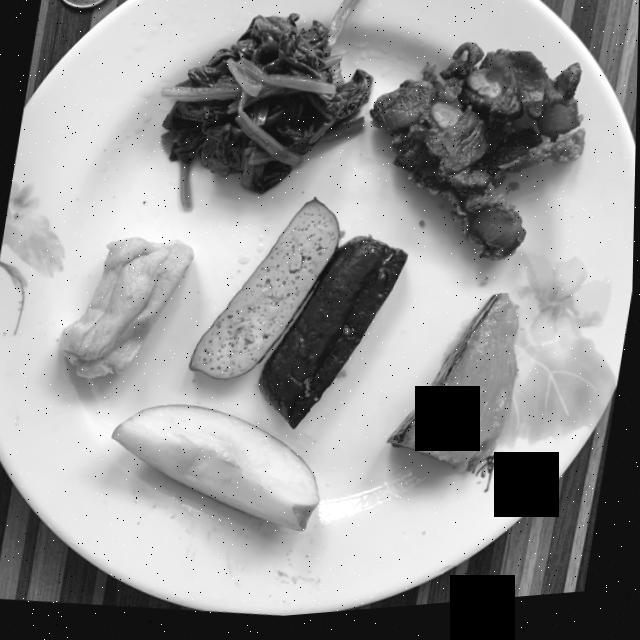apple -sliced-: (114, 408, 322, 536)
coin: (61, 0, 107, 10)
creamy tofu -without sauce-: (62, 240, 195, 380)
firm tofu: (191, 205, 409, 434)
mustard greens: (161, 0, 373, 213)
pumpkin: (390, 302, 521, 480)
red grilled pork: (371, 51, 586, 268)
